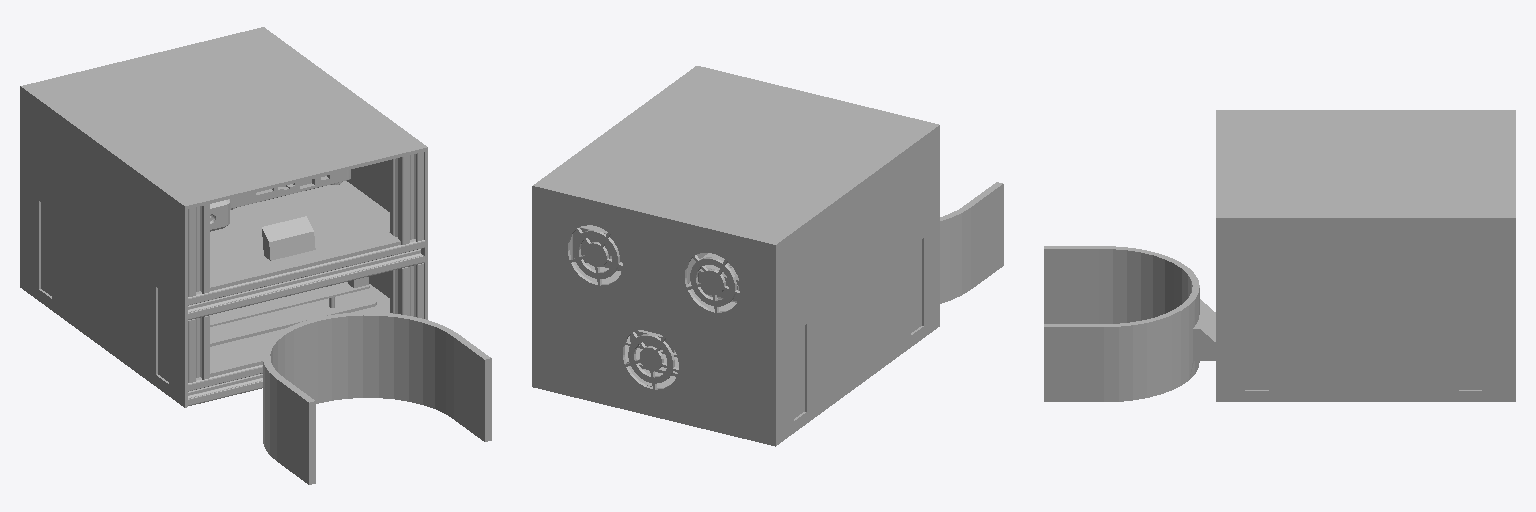
robot.urdf — 051411:
<?xml version="1.0" encoding="utf-8"?>
<!-- This URDF was automatically created by SolidWorks to URDF Exporter! Originally created by [author] ([email redacted]) 
     Commit Version: 1.5.1-0-g916b5db  Build Version: 1.5.7152.31018
     For more information, please see http://wiki.ros.org/sw_urdf_exporter -->
<robot
  name="051411">
  <link
    name="Body">
    <inertial>
      <origin
        xyz="0.108885138044438 0.0585567936495662 -0.142308649679038"
        rpy="0 0 0" />
      <mass
        value="5.32485366509137" />
      <inertia
        ixx="0.0219378727233069"
        ixy="-4.01751561825009E-06"
        ixz="-1.47975198134055E-06"
        iyy="0.023203020823872"
        iyz="-7.80337093935826E-06"
        izz="0.0149047739346839" />
    </inertial>
    <visual>
      <origin
        xyz="0 0 0"
        rpy="0 0 0" />
      <geometry>
        <mesh
          filename="package://051411/meshes/Body.STL" />
      </geometry>
      <material
        name="">
        <color
          rgba="0.752941176470588 0.752941176470588 0.752941176470588 1" />
      </material>
    </visual>
    <collision>
      <origin
        xyz="0 0 0"
        rpy="0 0 0" />
      <geometry>
        <mesh
          filename="package://051411/meshes/Body.STL" />
      </geometry>
    </collision>
  </link>
  <link
    name="LFS">
    <inertial>
      <origin
        xyz="0.0666875210853818 -0.0256174029954353 0.0272583251967585"
        rpy="0 0 0" />
      <mass
        value="0.26437001106024" />
      <inertia
        ixx="3.20746276473133E-05"
        ixy="-1.44118283521332E-07"
        ixz="-6.30853084344598E-08"
        iyy="6.22704126338855E-05"
        iyz="-2.01894652764198E-07"
        izz="6.28519936954E-05" />
    </inertial>
    <visual>
      <origin
        xyz="0 0 0"
        rpy="0 0 0" />
      <geometry>
        <mesh
          filename="package://051411/meshes/LFS.STL" />
      </geometry>
      <material
        name="">
        <color
          rgba="0.752941176470588 0.752941176470588 0.752941176470588 1" />
      </material>
    </visual>
    <collision>
      <origin
        xyz="0 0 0"
        rpy="0 0 0" />
      <geometry>
        <mesh
          filename="package://051411/meshes/LFS.STL" />
      </geometry>
    </collision>
  </link>
  <joint
    name="LFS"
    type="prismatic">
    <origin
      xyz="0.31516 0.050812 0.026427"
      rpy="2.834 0 3.1416" />
    <parent
      link="Body" />
    <child
      link="LFS" />
    <axis
      xyz="0 0.3028 -0.95305" />
    <limit
      lower="0"
      upper="0"
      effort="0"
      velocity="0" />
  </joint>
  <link
    name="LFW">
    <inertial>
      <origin
        xyz="-0.012315724574073 0 3.46944695195361E-18"
        rpy="0 0 0" />
      <mass
        value="0.193585420779862" />
      <inertia
        ixx="0.000253081141332254"
        ixy="-2.20697783538624E-23"
        ixz="8.87721135180224E-22"
        iyy="0.000136818598566517"
        iyz="0"
        izz="0.000136818598566517" />
    </inertial>
    <visual>
      <origin
        xyz="0 0 0"
        rpy="0 0 0" />
      <geometry>
        <mesh
          filename="package://051411/meshes/LFW.STL" />
      </geometry>
      <material
        name="">
        <color
          rgba="1 1 1 1" />
      </material>
    </visual>
    <collision>
      <origin
        xyz="0 0 0"
        rpy="0 0 0" />
      <geometry>
        <mesh
          filename="package://051411/meshes/LFW.STL" />
      </geometry>
    </collision>
  </link>
  <joint
    name="LFW"
    type="continuous">
    <origin
      xyz="0.00041099 -0.047479 0.052309"
      rpy="-1.8707 0 3.1416" />
    <parent
      link="LFS" />
    <child
      link="LFW" />
    <axis
      xyz="1 0 0" />
    <limit
      effort="3.1"
      velocity="7" />
  </joint>
  <link
    name="RFS">
    <inertial>
      <origin
        xyz="0.0724473276378503 -0.0316832521314762 0.0253402400459297"
        rpy="0 0 0" />
      <mass
        value="0.26437001106024" />
      <inertia
        ixx="3.20746276473134E-05"
        ixy="1.44118283521343E-07"
        ixz="6.30853084344513E-08"
        iyy="6.22704126338856E-05"
        iyz="-2.018946527642E-07"
        izz="6.28519936954001E-05" />
    </inertial>
    <visual>
      <origin
        xyz="0 0 0"
        rpy="0 0 0" />
      <geometry>
        <mesh
          filename="package://051411/meshes/RFS.STL" />
      </geometry>
      <material
        name="">
        <color
          rgba="0.752941176470588 0.752941176470588 0.752941176470588 1" />
      </material>
    </visual>
    <collision>
      <origin
        xyz="0 0 0"
        rpy="0 0 0" />
      <geometry>
        <mesh
          filename="package://051411/meshes/RFS.STL" />
      </geometry>
    </collision>
  </link>
  <joint
    name="RFS"
    type="prismatic">
    <origin
      xyz="-0.10492 0.012128 0.026427"
      rpy="2.834 0 0" />
    <parent
      link="Body" />
    <child
      link="RFS" />
    <axis
      xyz="0 0.3028 -0.95305" />
    <limit
      lower="0"
      upper="0"
      effort="0"
      velocity="0" />
  </joint>
  <link
    name="RFW">
    <inertial>
      <origin
        xyz="-0.012315724574073 -3.46944695195361E-18 6.93889390390723E-18"
        rpy="0 0 0" />
      <mass
        value="0.193585420779862" />
      <inertia
        ixx="0.000253081141332253"
        ixy="1.52152873461367E-21"
        ixz="2.90805277918717E-21"
        iyy="0.000136818598566517"
        iyz="-1.6940658945086E-20"
        izz="0.000136818598566517" />
    </inertial>
    <visual>
      <origin
        xyz="0 0 0"
        rpy="0 0 0" />
      <geometry>
        <mesh
          filename="package://051411/meshes/RFW.STL" />
      </geometry>
      <material
        name="">
        <color
          rgba="1 1 1 1" />
      </material>
    </visual>
    <collision>
      <origin
        xyz="0 0 0"
        rpy="0 0 0" />
      <geometry>
        <mesh
          filename="package://051411/meshes/RFW.STL" />
      </geometry>
    </collision>
  </link>
  <joint
    name="RFW"
    type="continuous">
    <origin
      xyz="0.0061708 -0.028286 0.058405"
      rpy="-0.70714 0 3.1416" />
    <parent
      link="RFS" />
    <child
      link="RFW" />
    <axis
      xyz="1 0 0" />
    <limit
      effort="3.1"
      velocity="7" />
  </joint>
  <link
    name="LBS">
    <inertial>
      <origin
        xyz="0.0754022136877308 -0.0206011352566475 0.0126264314730576"
        rpy="0 0 0" />
      <mass
        value="0.197009126147877" />
      <inertia
        ixx="1.68802738687172E-05"
        ixy="-4.80660454962433E-21"
        ixz="2.20351163892655E-20"
        iyy="5.02184885667569E-05"
        iyz="1.0508875929185E-06"
        izz="4.72447473350486E-05" />
    </inertial>
    <visual>
      <origin
        xyz="0 0 0"
        rpy="0 0 0" />
      <geometry>
        <mesh
          filename="package://051411/meshes/LBS.STL" />
      </geometry>
      <material
        name="">
        <color
          rgba="0.752941176470588 0.752941176470588 0.752941176470588 1" />
      </material>
    </visual>
    <collision>
      <origin
        xyz="0 0 0"
        rpy="0 0 0" />
      <geometry>
        <mesh
          filename="package://051411/meshes/LBS.STL" />
      </geometry>
    </collision>
  </link>
  <joint
    name="LBS"
    type="prismatic">
    <origin
      xyz="0.31516 0.23081 0.01777"
      rpy="2.834 0 3.1416" />
    <parent
      link="Body" />
    <child
      link="LBS" />
    <axis
      xyz="0 0.3028 -0.95305" />
    <limit
      lower="0"
      upper="0"
      effort="0"
      velocity="0" />
  </joint>
  <link
    name="LBC">
    <inertial>
      <origin
        xyz="0.000464526735875048 -0.0408313152633741 -2.77555756156289E-17"
        rpy="0 0 0" />
      <mass
        value="0.0433962459602619" />
      <inertia
        ixx="2.1180042472488E-05"
        ixy="5.53822046363832E-07"
        ixz="-7.94093388050907E-23"
        iyy="1.76453344713605E-06"
        iyz="-5.89821135780936E-21"
        izz="2.14947085785555E-05" />
    </inertial>
    <visual>
      <origin
        xyz="0 0 0"
        rpy="0 0 0" />
      <geometry>
        <mesh
          filename="package://051411/meshes/LBC.STL" />
      </geometry>
      <material
        name="">
        <color
          rgba="0.898039215686275 0.917647058823529 0.929411764705882 1" />
      </material>
    </visual>
    <collision>
      <origin
        xyz="0 0 0"
        rpy="0 0 0" />
      <geometry>
        <mesh
          filename="package://051411/meshes/LBC.STL" />
      </geometry>
    </collision>
  </link>
  <joint
    name="LBC"
    type="continuous">
    <origin
      xyz="0.041161 -0.016816 0.00071326"
      rpy="-1.8784 -0.0013926 3.1372" />
    <parent
      link="LBS" />
    <child
      link="LBC" />
    <axis
      xyz="0 1 0" />
  </joint>
  <link
    name="LBW">
    <inertial>
      <origin
        xyz="0.00647305835345524 0 0"
        rpy="0 0 0" />
      <mass
        value="0.0368891747697499" />
      <inertia
        ixx="1.67269024516251E-05"
        ixy="-6.05909798695093E-22"
        ixz="6.3097337125545E-21"
        iyy="8.87926239042531E-06"
        iyz="-3.17637355220363E-22"
        izz="8.87926239042531E-06" />
    </inertial>
    <visual>
      <origin
        xyz="0 0 0"
        rpy="0 0 0" />
      <geometry>
        <mesh
          filename="package://051411/meshes/LBW.STL" />
      </geometry>
      <material
        name="">
        <color
          rgba="1 1 1 1" />
      </material>
    </visual>
    <collision>
      <origin
        xyz="0 0 0"
        rpy="0 0 0" />
      <geometry>
        <mesh
          filename="package://051411/meshes/LBW.STL" />
      </geometry>
    </collision>
  </link>
  <joint
    name="LBW"
    type="continuous">
    <origin
      xyz="0.0095003 -0.068304 0"
      rpy="-2.9662 0 0" />
    <parent
      link="LBC" />
    <child
      link="LBW" />
    <axis
      xyz="1 0 0" />
    <limit
      effort="3.1"
      velocity="7" />
  </joint>
  <link
    name="RBS">
    <inertial>
      <origin
        xyz="0.0754022136877307 -0.0206011352566388 0.0126264314730556"
        rpy="0 0 0" />
      <mass
        value="0.197009126147877" />
      <inertia
        ixx="1.68802738687172E-05"
        ixy="1.02895547362818E-20"
        ixz="-2.43496363718604E-20"
        iyy="5.0218488566757E-05"
        iyz="1.0508875929185E-06"
        izz="4.72447473350487E-05" />
    </inertial>
    <visual>
      <origin
        xyz="0 0 0"
        rpy="0 0 0" />
      <geometry>
        <mesh
          filename="package://051411/meshes/RBS.STL" />
      </geometry>
      <material
        name="">
        <color
          rgba="0.752941176470588 0.752941176470588 0.752941176470588 1" />
      </material>
    </visual>
    <collision>
      <origin
        xyz="0 0 0"
        rpy="0 0 0" />
      <geometry>
        <mesh
          filename="package://051411/meshes/RBS.STL" />
      </geometry>
    </collision>
  </link>
  <joint
    name="RBS"
    type="prismatic">
    <origin
      xyz="-0.099161 0.19919 0.01777"
      rpy="2.834 0 0" />
    <parent
      link="Body" />
    <child
      link="RBS" />
    <axis
      xyz="0 0.3028 -0.95305" />
    <limit
      lower="0"
      upper="0"
      effort="0"
      velocity="0" />
  </joint>
  <link
    name="RBC">
    <inertial>
      <origin
        xyz="0.000464526735875062 -0.0408313152633741 0"
        rpy="0 0 0" />
      <mass
        value="0.0433962459602619" />
      <inertia
        ixx="2.1180042472488E-05"
        ixy="5.53822046363839E-07"
        ixz="-2.7069360738408E-22"
        iyy="1.76453344713605E-06"
        iyz="-3.31023923512817E-21"
        izz="2.14947085785555E-05" />
    </inertial>
    <visual>
      <origin
        xyz="0 0 0"
        rpy="0 0 0" />
      <geometry>
        <mesh
          filename="package://051411/meshes/RBC.STL" />
      </geometry>
      <material
        name="">
        <color
          rgba="0.898039215686275 0.917647058823529 0.929411764705882 1" />
      </material>
    </visual>
    <collision>
      <origin
        xyz="0 0 0"
        rpy="0 0 0" />
      <geometry>
        <mesh
          filename="package://051411/meshes/RBC.STL" />
      </geometry>
    </collision>
  </link>
  <joint
    name="RBC"
    type="continuous">
    <origin
      xyz="0.041161 -0.016816 0.00071326"
      rpy="-1.8784 0 3.1416" />
    <parent
      link="RBS" />
    <child
      link="RBC" />
    <axis
      xyz="0 1 0" />
  </joint>
  <link
    name="RBW">
    <inertial>
      <origin
        xyz="0.00647333333471937 -5.55111512312578E-17 -5.55111512312578E-17"
        rpy="0 0 0" />
      <mass
        value="0.0368891747697499" />
      <inertia
        ixx="1.67269024516251E-05"
        ixy="-2.32726892683381E-21"
        ixz="-4.86067499904064E-21"
        iyy="8.8792623904253E-06"
        iyz="-8.470329472543E-22"
        izz="8.8792623904253E-06" />
    </inertial>
    <visual>
      <origin
        xyz="0 0 0"
        rpy="0 0 0" />
      <geometry>
        <mesh
          filename="package://051411/meshes/RBW.STL" />
      </geometry>
      <material
        name="">
        <color
          rgba="1 1 1 1" />
      </material>
    </visual>
    <collision>
      <origin
        xyz="0 0 0"
        rpy="0 0 0" />
      <geometry>
        <mesh
          filename="package://051411/meshes/RBW.STL" />
      </geometry>
    </collision>
  </link>
  <joint
    name="RBW"
    type="continuous">
    <origin
      xyz="0.0095 -0.068304 0"
      rpy="0.99137 0 0" />
    <parent
      link="RBC" />
    <child
      link="RBW" />
    <axis
      xyz="1 0 0" />
    <limit
      effort="3.1"
      velocity="7" />
  </joint>
  <link
    name="front_cam">
    <inertial>
      <origin
        xyz="0.0498359968949385 0.0617836354959193 0.0687226592240569"
        rpy="0 0 0" />
      <mass
        value="0.0436119950287128" />
      <inertia
        ixx="4.29479133591131E-06"
        ixy="-8.85791114122617E-10"
        ixz="-1.01813691701076E-09"
        iyy="2.21058141232447E-05"
        iyz="2.17579681215275E-08"
        izz="2.35707058046401E-05" />
    </inertial>
    <visual>
      <origin
        xyz="0 0 0"
        rpy="0 0 0" />
      <geometry>
        <mesh
          filename="package://051411/meshes/front_cam.STL" />
      </geometry>
      <material
        name="">
        <color
          rgba="0.792156862745098 0.819607843137255 0.933333333333333 1" />
      </material>
    </visual>
    <collision>
      <origin
        xyz="0 0 0"
        rpy="0 0 0" />
      <geometry>
        <mesh
          filename="package://051411/meshes/front_cam.STL" />
      </geometry>
    </collision>
  </link>
  <joint
    name="front_cam"
    type="fixed">
    <origin
      xyz="0.058161 0.080278 0.069504"
      rpy="1.5708 0 0" />
    <parent
      link="Body" />
    <child
      link="front_cam" />
    <axis
      xyz="0 0 0" />
  </joint>
  <link
    name="ball_cam">
    <inertial>
      <origin
        xyz="0.049835996914947 0.0617836350059216 -0.003746181077359"
        rpy="0 0 0" />
      <mass
        value="0.0436119951630769" />
      <inertia
        ixx="4.29479053059235E-06"
        ixy="-8.85260765936133E-10"
        ixz="-1.01843552509082E-09"
        iyy="2.21058148138206E-05"
        iyz="2.17580969417583E-08"
        izz="2.3570705705494E-05" />
    </inertial>
    <visual>
      <origin
        xyz="0 0 0"
        rpy="0 0 0" />
      <geometry>
        <mesh
          filename="package://051411/meshes/ball_cam.STL" />
      </geometry>
      <material
        name="">
        <color
          rgba="0.792156862745098 0.819607843137255 0.933333333333333 1" />
      </material>
    </visual>
    <collision>
      <origin
        xyz="0 0 0"
        rpy="0 0 0" />
      <geometry>
        <mesh
          filename="package://051411/meshes/ball_cam.STL" />
      </geometry>
    </collision>
  </link>
  <joint
    name="ball_cam"
    type="fixed">
    <origin
      xyz="0.058165 0.048961 0.044286"
      rpy="2.2021 0 0" />
    <parent
      link="Body" />
    <child
      link="ball_cam" />
    <axis
      xyz="0 0 1" />
  </joint>
  <link
    name="Lidar">
    <inertial>
      <origin
        xyz="-0.0784930224009142 -0.74442743376688 -0.133449662212527"
        rpy="0 0 0" />
      <mass
        value="0.0730845703902162" />
      <inertia
        ixx="1.95808756635695E-05"
        ixy="4.28391179298426E-07"
        ixz="-1.03933565415068E-07"
        iyy="4.14184515330581E-05"
        iyz="-9.42709167560436E-09"
        izz="2.41250078994433E-05" />
    </inertial>
    <visual>
      <origin
        xyz="0 0 0"
        rpy="0 0 0" />
      <geometry>
        <mesh
          filename="package://051411/meshes/Lidar.STL" />
      </geometry>
      <material
        name="">
        <color
          rgba="0.792156862745098 0.819607843137255 0.933333333333333 1" />
      </material>
    </visual>
    <collision>
      <origin
        xyz="0 0 0"
        rpy="0 0 0" />
      <geometry>
        <mesh
          filename="package://051411/meshes/Lidar.STL" />
      </geometry>
    </collision>
  </link>
  <joint
    name="Lidar"
    type="fixed">
    <origin
      xyz="0.24092 0.098561 -0.57169"
      rpy="-1.5708 0 -1.5708" />
    <parent
      link="Body" />
    <child
      link="Lidar" />
    <axis
      xyz="0 0 0" />
  </joint>
</robot>

--- Render facts (derived) ---
The picture shows the robot from 3 angles, left to right: view 1: azimuth 30°, elevation 25°; view 2: azimuth 150°, elevation 25°; view 3: azimuth 270°, elevation 25°; orthographic projection.
Model 051411 with 14 links and 13 joints (6 continuous, 4 prismatic, 3 fixed), rooted at Body, posed every joint at zero.
Links seen in each view (by area): view 1: Body; view 2: Body; view 3: Body.
Link boxes in pixels (box(x1,y1,x2,y2)): Body: box(20, 27, 491, 484); Body: box(532, 66, 1003, 446); Body: box(1044, 110, 1515, 401).
Bounding box of the posed robot: 0.216 × 0.3973 × 0.1845 m (x, y, z).
1 mesh visuals loaded from 14 distinct referenced files (1 binary STL); not drawn: 13 (reference not matched to a file when rendering).